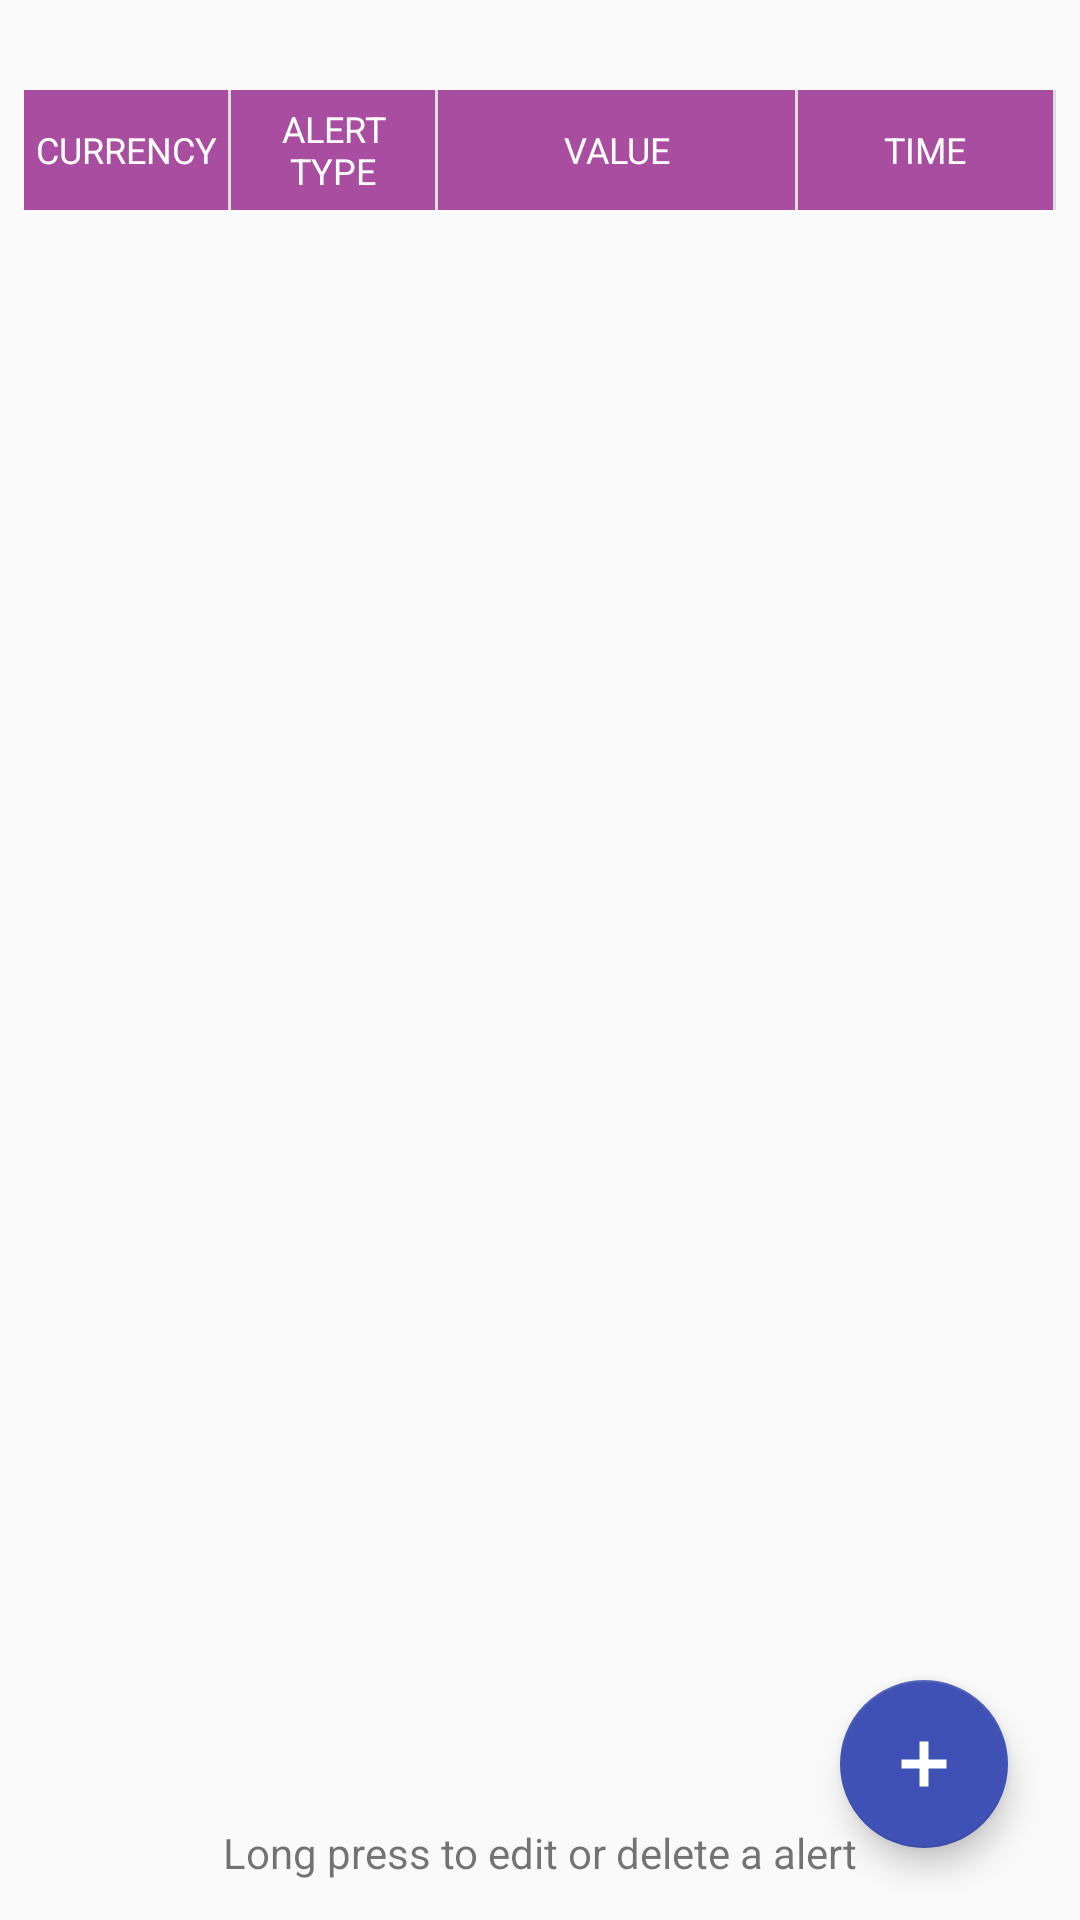

Icon click points for this 1080*1920 phone screenshot, format point (x, y):
plus: point (924, 1764)
